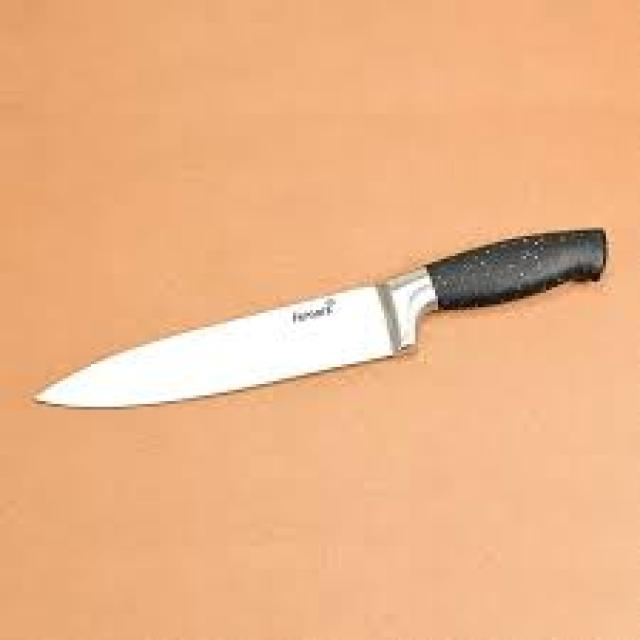knife: (32, 228, 608, 407)
